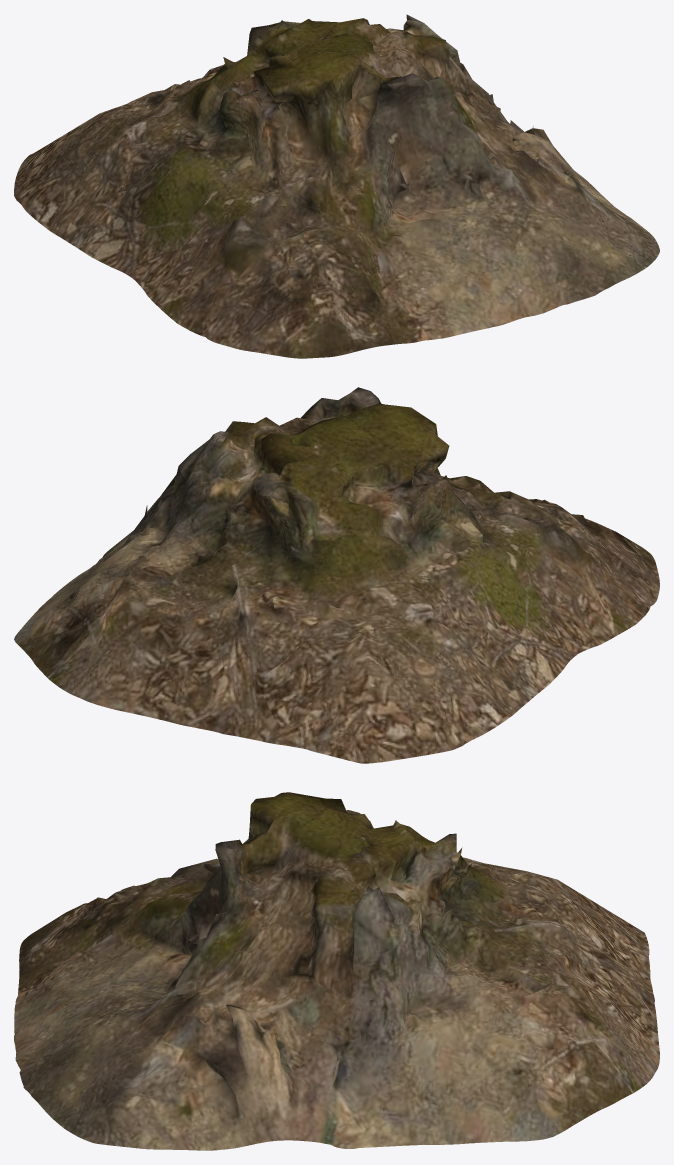
File: stump.glb
3 renders of one model, top to bottom at view 1: azimuth 30°, elevation 25°; view 2: azimuth 150°, elevation 25°; view 3: azimuth 270°, elevation 25°, orthographic. The views are drawn at different scales.
Parts seen in each view (by area): view 1: tree_stump_01; view 2: tree_stump_01; view 3: tree_stump_01.
Part boxes in pixels (x1,y1,x2,y2): tree_stump_01: (14, 14, 659, 358); tree_stump_01: (14, 387, 659, 763); tree_stump_01: (14, 792, 659, 1150).
Size of the model in its own units: 1.43 by 0.5711 by 1.59.
1 material, 1 textured.
